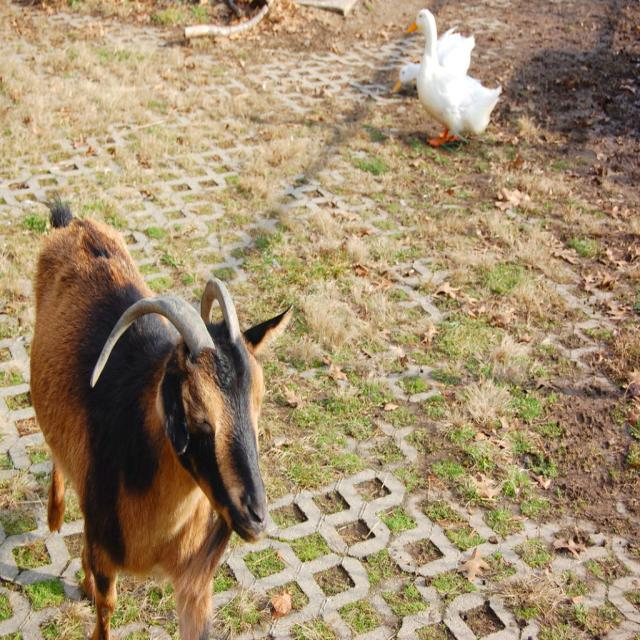Goat: (29, 191, 295, 638), (393, 7, 503, 148)
